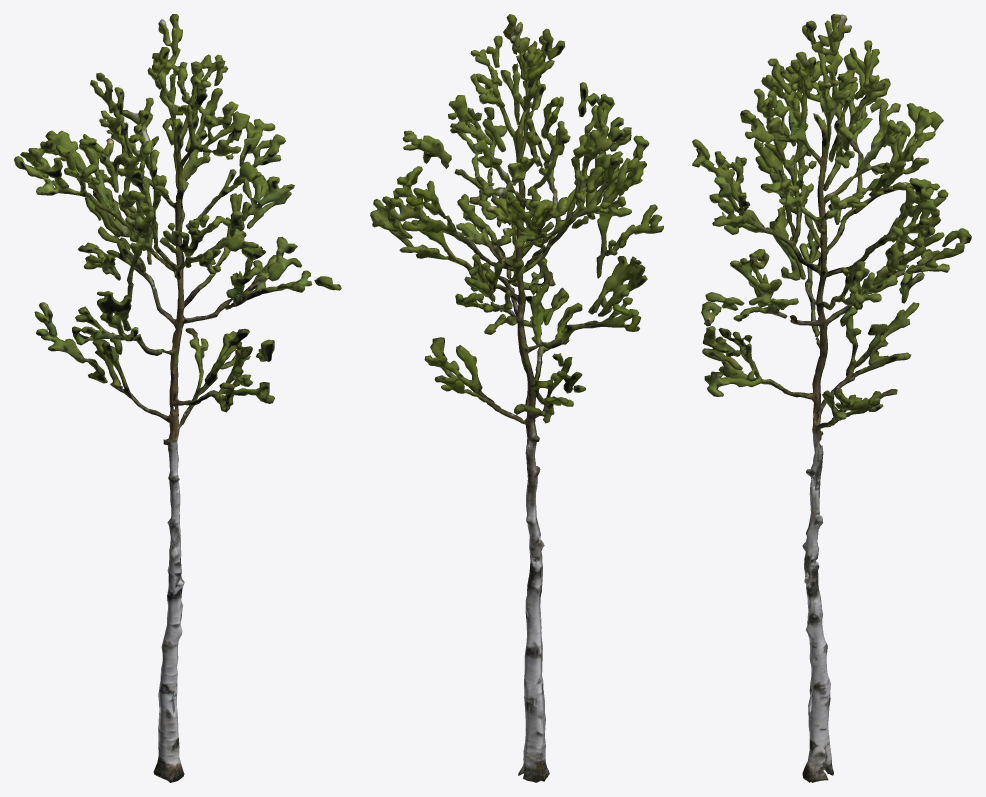
Rendered from AI_PaperBirch02.fbx.
3 views of the same model, side by side, from view 1: azimuth 30°, elevation 25°; view 2: azimuth 150°, elevation 25°; view 3: azimuth 270°, elevation 25° (orthographic). The views are drawn at different scales.
Parts seen in each view (by area): view 1: Mesh1.0; view 2: Mesh1.0; view 3: Mesh1.0.
Part boxes in pixels (box(x1,y1,x2,y2)): Mesh1.0: box(14, 14, 341, 782); Mesh1.0: box(370, 14, 663, 782); Mesh1.0: box(692, 14, 971, 782).
Size of the model in its own units: 74.83 by 201 by 66.21.
Materials: 1 (1 with a texture image).
